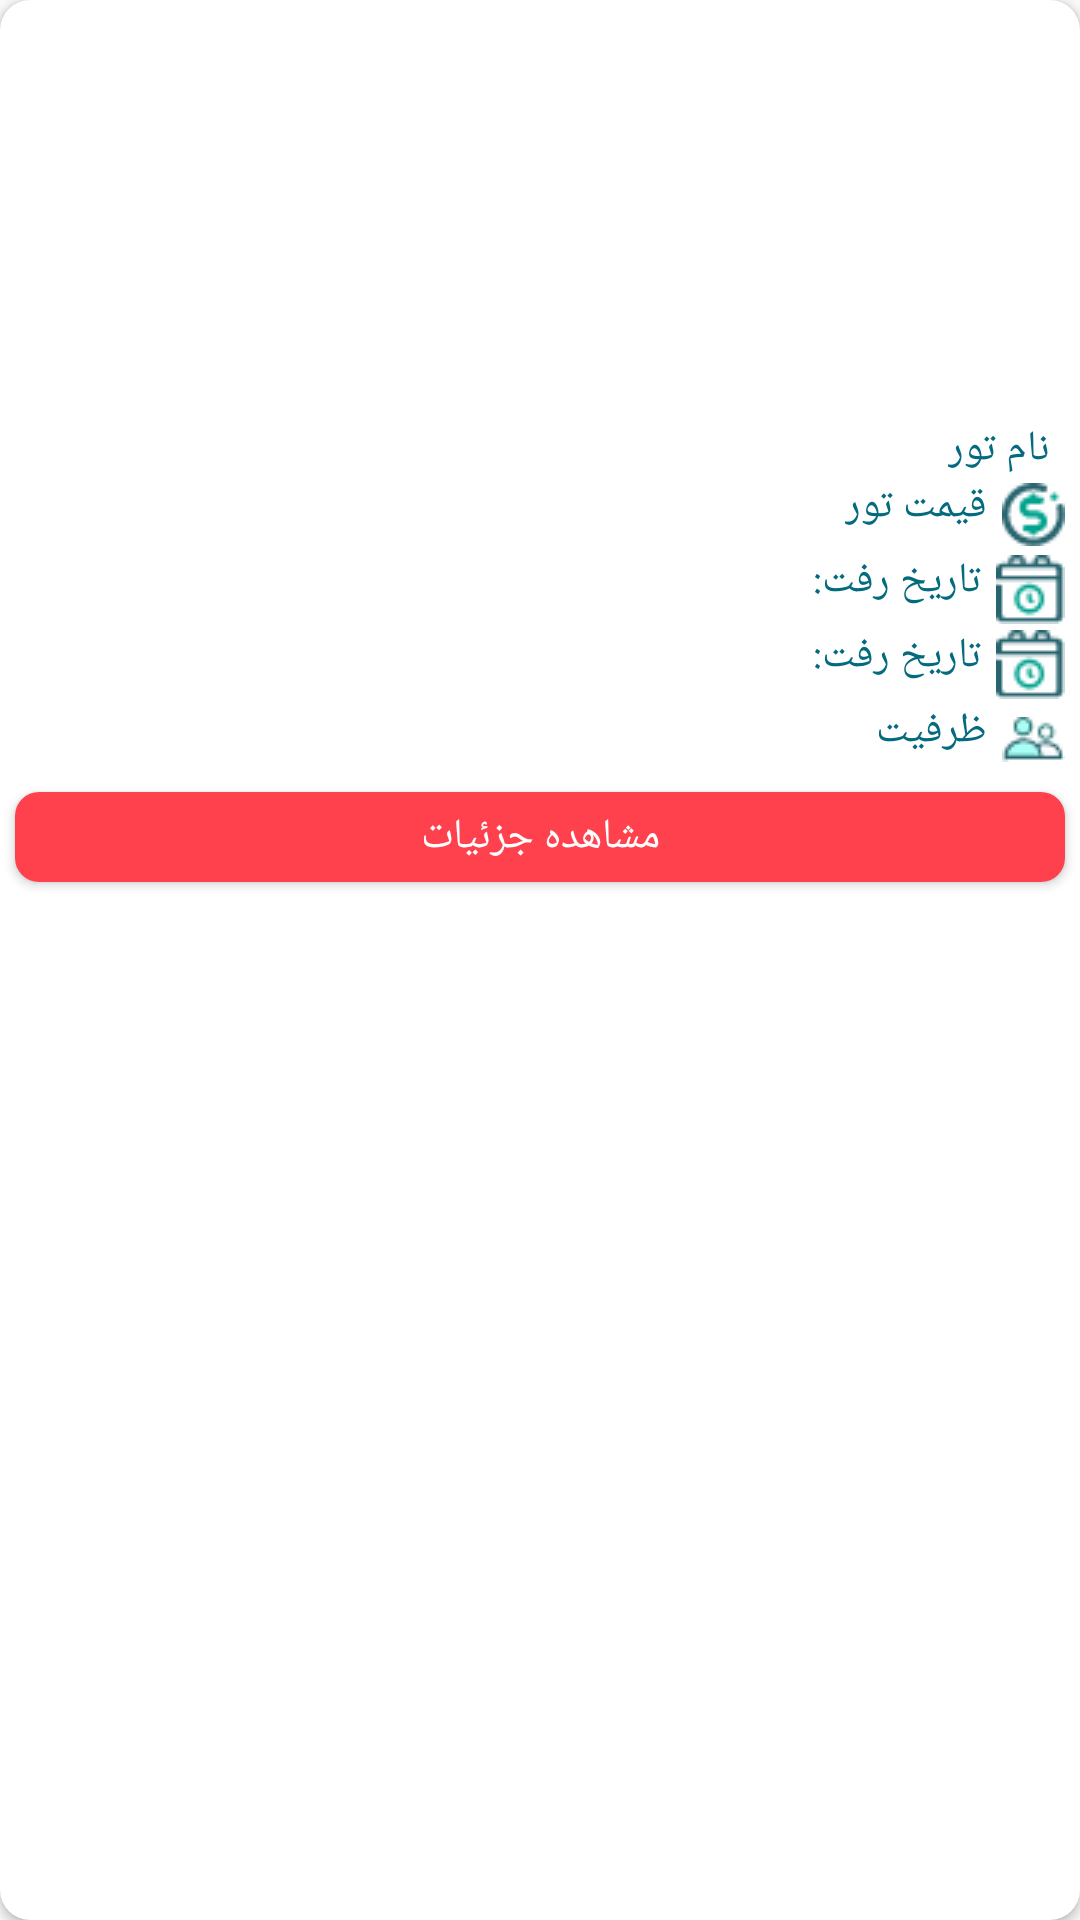

Point at icon controls on the screen. Image size 1080×1920, points as (x=x, y=y).
date: (x=1030, y=589), (x=1030, y=664)
money: (x=1033, y=514)
people: (x=1033, y=739)
